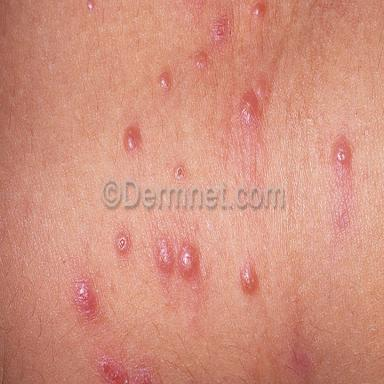Molluscum-Contagiosum: (179, 244, 199, 278), (240, 90, 260, 124), (156, 238, 174, 272), (332, 138, 351, 170), (241, 260, 259, 293), (124, 125, 143, 153), (255, 74, 271, 106), (159, 68, 173, 91), (194, 51, 208, 70), (253, 2, 265, 17)
